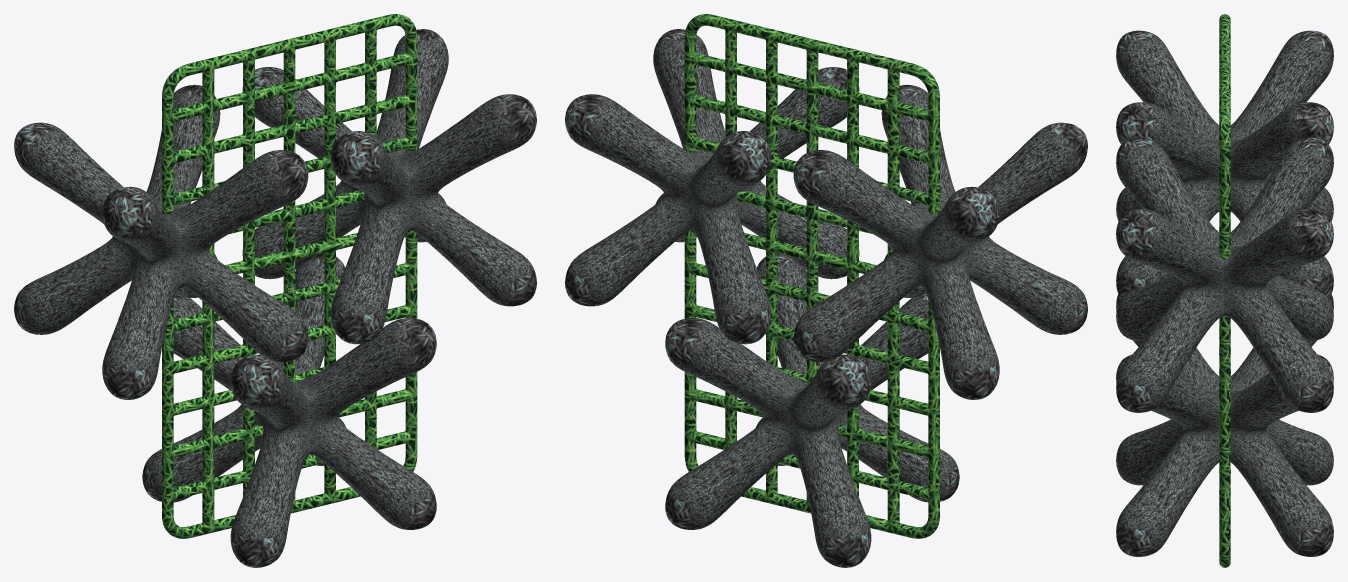
3 views of the same model, side by side, from view 1: azimuth 30°, elevation 25°; view 2: azimuth 150°, elevation 25°; view 3: azimuth 270°, elevation 25° (orthographic). The views are drawn at different scales.
Visible parts, largest first — view 1: Exploded Mesh (×3), Lattice #2; view 2: Exploded Mesh (×3), Lattice #2; view 3: Exploded Mesh (×3), Lattice #2.
Part boxes in pixels (left/top/right/bottom): Exploded Mesh (×3): left=14, top=29, right=536, bottom=567; Lattice #2: left=162, top=14, right=417, bottom=538; Exploded Mesh (×3): left=565, top=29, right=1087, bottom=567; Lattice #2: left=684, top=14, right=939, bottom=538; Exploded Mesh (×3): left=1116, top=30, right=1333, bottom=556; Lattice #2: left=1219, top=14, right=1230, bottom=567.
Size of the model in its own units: 0.2117 by 0.2253 by 0.098.
3 materials, 3 textured.
